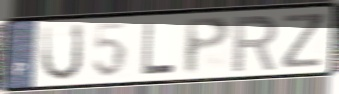5: (91, 21, 129, 80)
L: (140, 21, 177, 77)
P: (184, 14, 233, 77)
R: (231, 13, 280, 74)
U: (39, 22, 86, 84)
Z: (279, 11, 328, 71)
